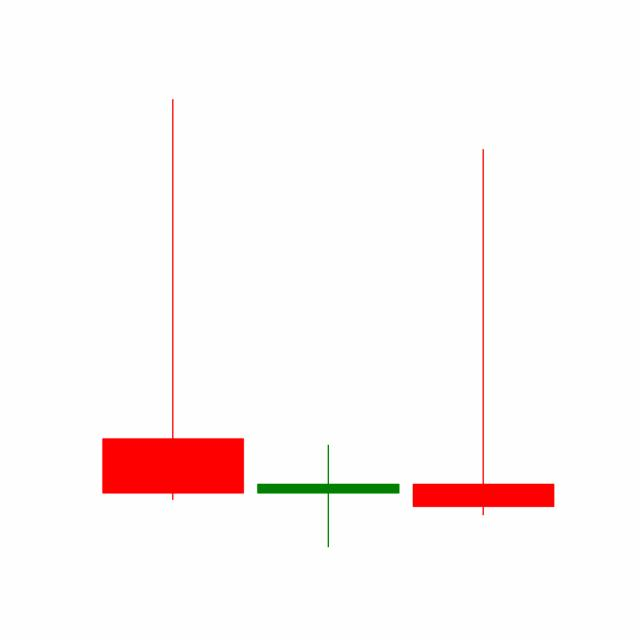Spinning Top: (249, 443, 406, 548)
